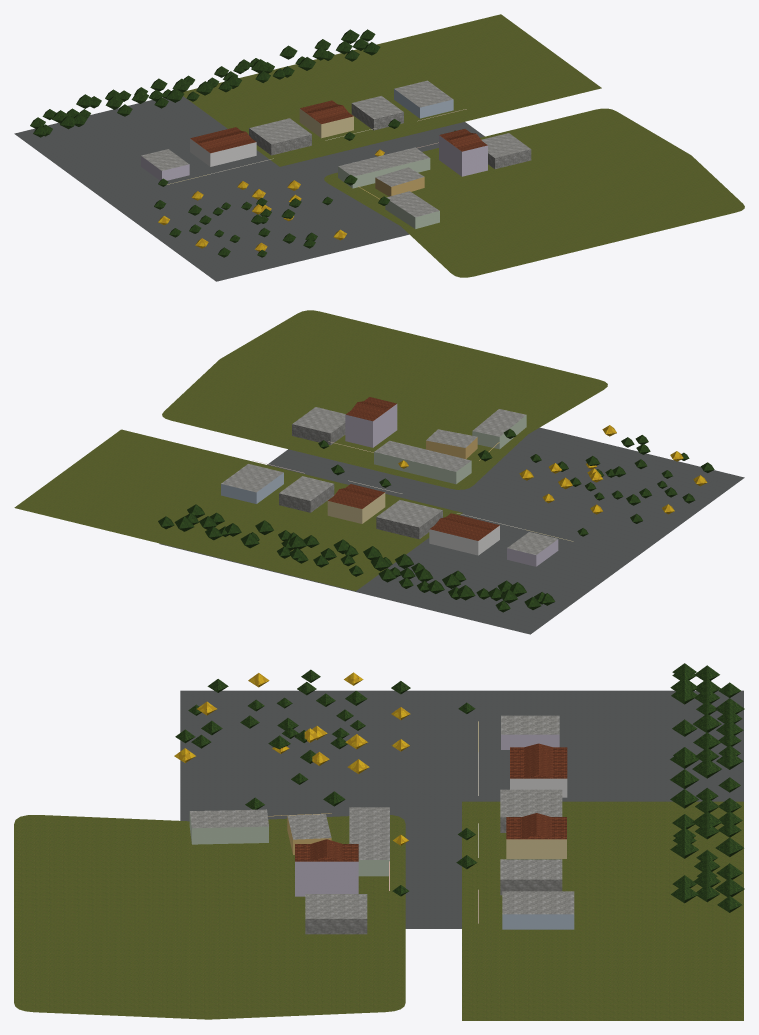
Rendered from cidade_S03_07_lod.gltf.
3 renders of one model, top to bottom at view 1: azimuth 30°, elevation 25°; view 2: azimuth 150°, elevation 25°; view 3: azimuth 270°, elevation 25°, orthographic. The views are drawn at different scales.
Visible parts, largest first — view 1: S03_07_Chao_LOD2, S03_07_Edificios_LOD1, S03_07_Vegetacao_LOD2, S03_07_Silhueta_LOD2; view 2: S03_07_Chao_LOD2, S03_07_Edificios_LOD1, S03_07_Vegetacao_LOD2, S03_07_Silhueta_LOD2; view 3: S03_07_Chao_LOD2, S03_07_Edificios_LOD1, S03_07_Vegetacao_LOD2, S03_07_Silhueta_LOD2.
Part boxes in pixels (box(x1,y1,x2,y2)): S03_07_Chao_LOD2: box(14, 14, 744, 281); S03_07_Edificios_LOD1: box(141, 80, 531, 228); S03_07_Vegetacao_LOD2: box(30, 29, 455, 257); S03_07_Silhueta_LOD2: box(190, 100, 487, 176); S03_07_Chao_LOD2: box(14, 310, 744, 634); S03_07_Edificios_LOD1: box(221, 401, 573, 566); S03_07_Vegetacao_LOD2: box(158, 425, 714, 612); S03_07_Silhueta_LOD2: box(327, 397, 499, 554); S03_07_Chao_LOD2: box(14, 690, 743, 1020); S03_07_Edificios_LOD1: box(189, 715, 574, 934); S03_07_Vegetacao_LOD2: box(174, 663, 744, 912); S03_07_Silhueta_LOD2: box(295, 747, 567, 896).
Bounding box in the file's own units: 140 × 9.1 × 130.
Materials: 15 (15 with a texture image).
